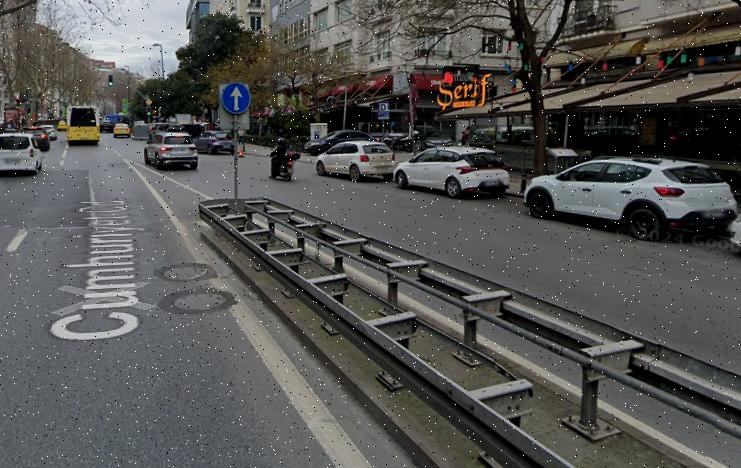forward: (223, 83, 249, 114)
greenlight: (108, 75, 114, 86), (147, 106, 151, 116), (28, 108, 31, 116)
